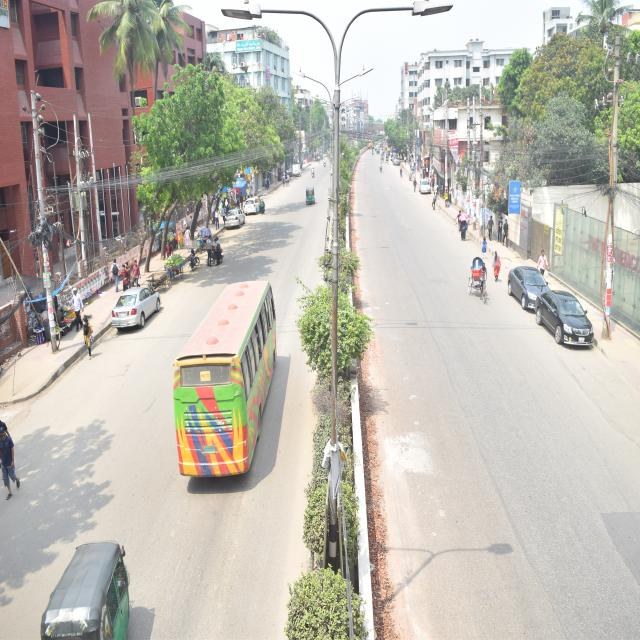bus: (169, 273, 278, 490)
car: (540, 286, 602, 352), (108, 275, 164, 333), (508, 264, 543, 305), (216, 192, 238, 231), (243, 192, 261, 222), (420, 186, 435, 198)
motorbike: (208, 235, 227, 274), (308, 162, 322, 181)
